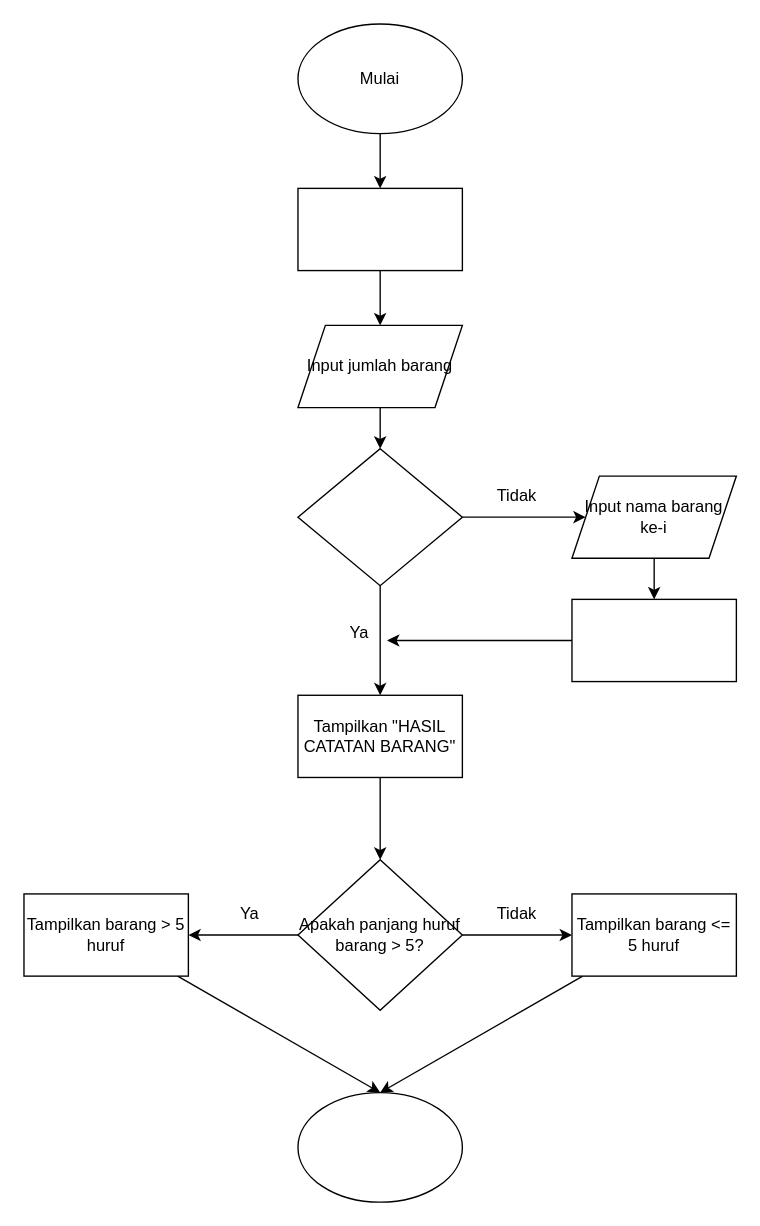
The diagram is 760 pixels wide and 1226 high, and some of its shapes have lost their labels. Here are the shapes that lost their labels. From the top down, the box of each, then its label:
(297, 187, 462, 271): Tampilkan judul program
(297, 447, 462, 586): Apakah semua barang sudah dicatat?
(571, 598, 736, 682): Tambahkan nama barang ke list
(297, 1091, 462, 1202): Selesai
